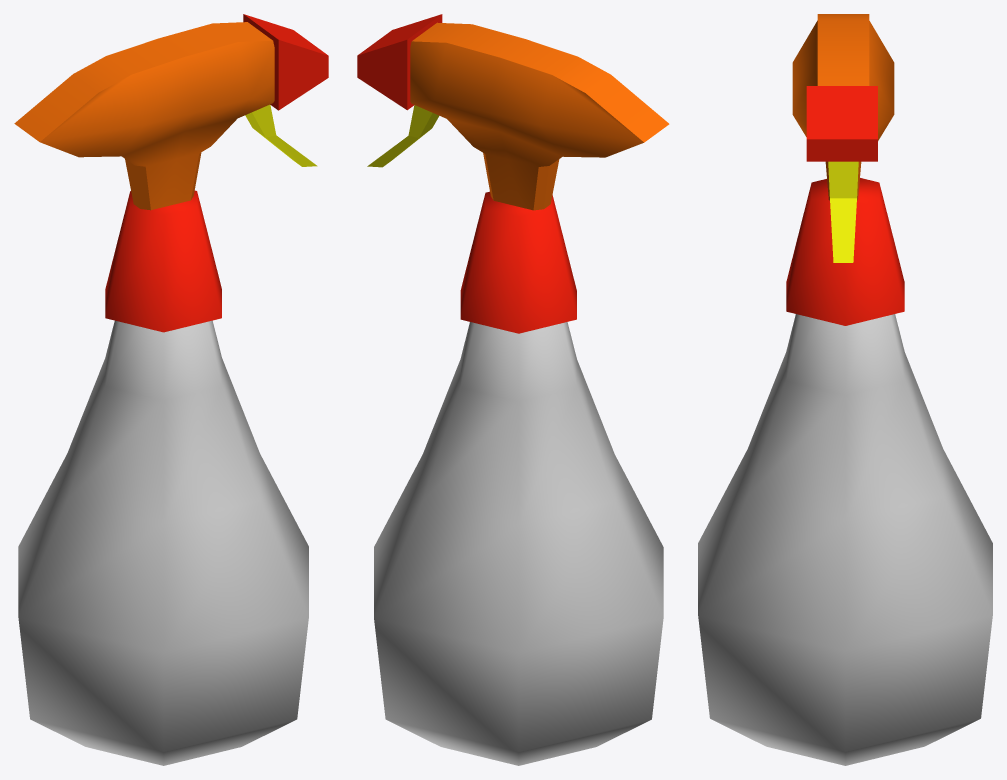
The model's file is Spray_Bottle_A.FBX.
The picture shows the model from 3 angles, left to right: view 1: azimuth 30°, elevation 25°; view 2: azimuth 150°, elevation 25°; view 3: azimuth 270°, elevation 25°; orthographic projection.
Visible parts, largest first — view 1: Spray_Bottle; view 2: Spray_Bottle; view 3: Spray_Bottle.
Boxes of the visible parts, x1=… form: Spray_Bottle: x1=14, y1=14, x2=328, y2=765; Spray_Bottle: x1=357, y1=14, x2=669, y2=765; Spray_Bottle: x1=698, y1=14, x2=992, y2=765.
Bounding box in the file's own units: 43.95 × 97.44 × 37.68.
